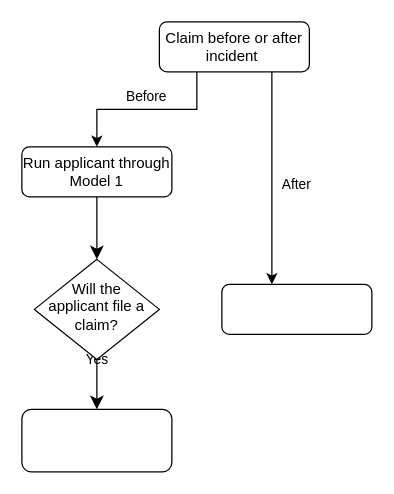
This 394x494 diagram has some shape labels left out. The shapes that lost their labels are listed below. From the top down, each one's centre as x and y in pixels, then its label:
(296,308): Future Work
(96,440): Run applicant through Model 2 to predict total claim
